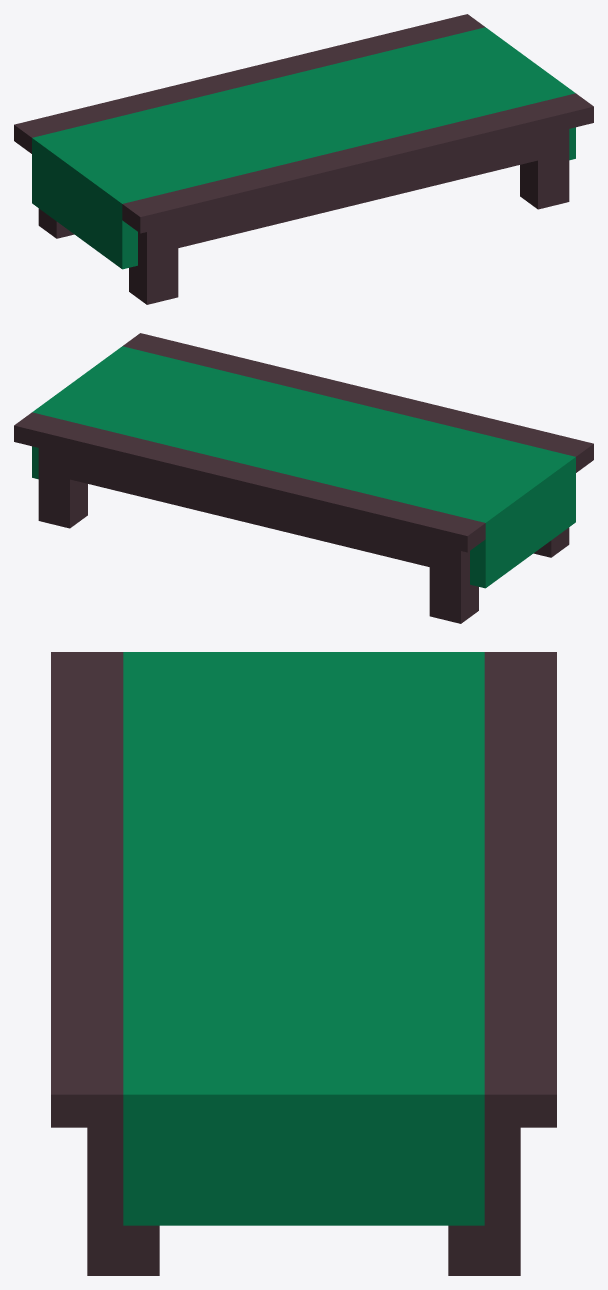
The model's file is large_table_c_green.obj.
3 views of the same model, one above another, from view 1: azimuth 30°, elevation 25°; view 2: azimuth 150°, elevation 25°; view 3: azimuth 270°, elevation 25° (orthographic). The views are drawn at different scales.
Bounding box in the file's own units: 2.9 × 0.6 × 1.4.
1 material, 1 textured.
